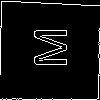M: (25, 25, 68, 69)
